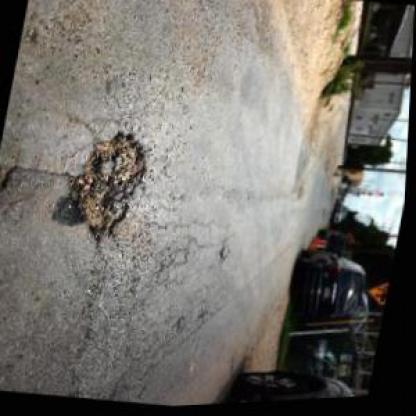pothole: (64, 126, 154, 246), (0, 162, 22, 207)
